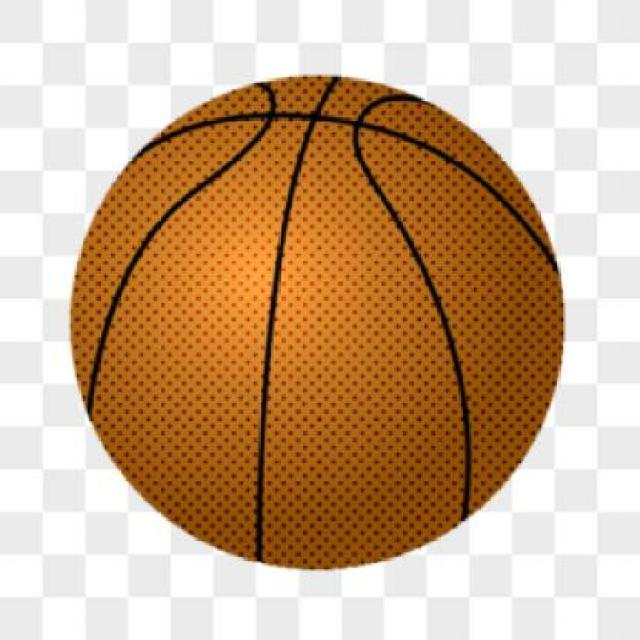basketball: (69, 73, 568, 572)
